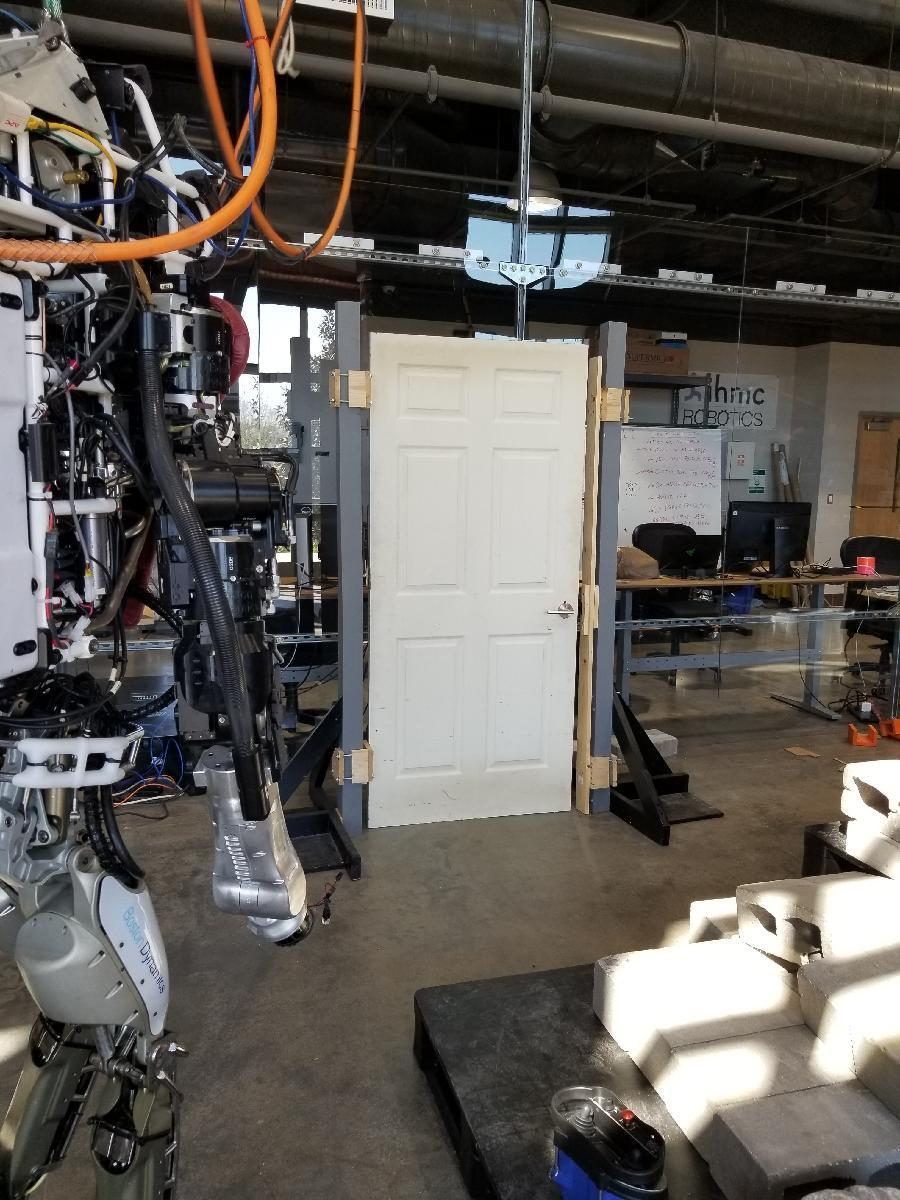door: (374, 333, 572, 819)
handle: (543, 600, 576, 619)
